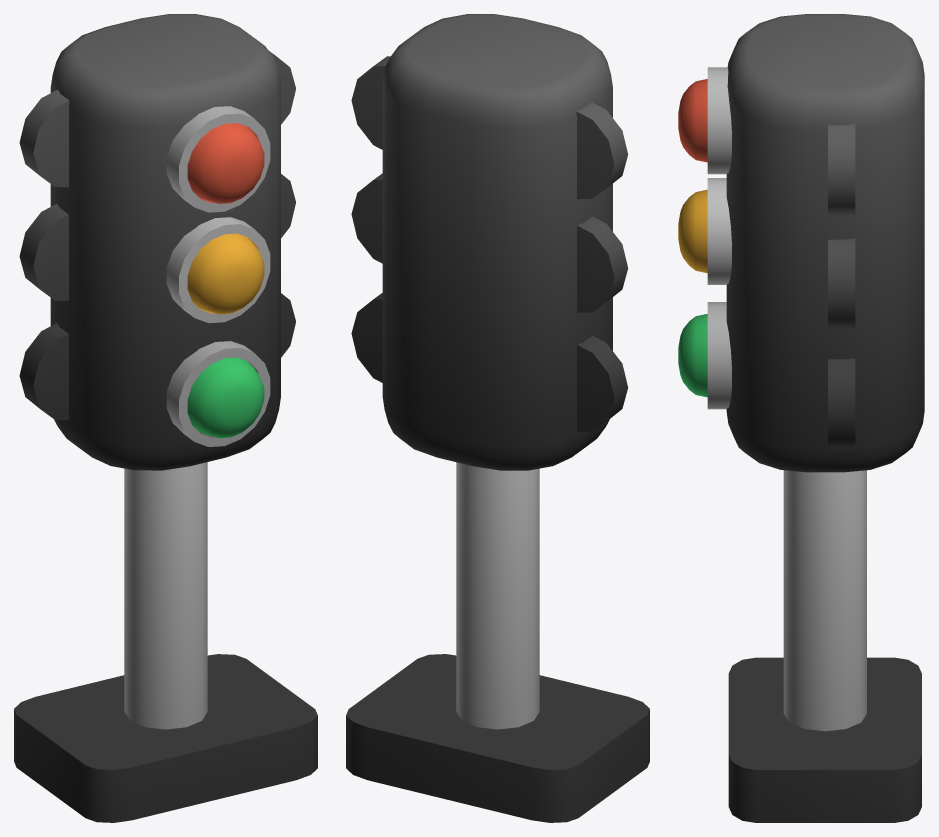
File: Traffic_Lamp.fbx
The picture shows the model from 3 angles, left to right: view 1: azimuth 30°, elevation 25°; view 2: azimuth 150°, elevation 25°; view 3: azimuth 270°, elevation 25°; orthographic projection.
Visible parts, largest first — view 1: Traffic_Lamp; view 2: Traffic_Lamp; view 3: Traffic_Lamp.
Part boxes in pixels (x1=…): Traffic_Lamp: x1=14, y1=14, x2=317, y2=822; Traffic_Lamp: x1=346, y1=14, x2=649, y2=822; Traffic_Lamp: x1=678, y1=14, x2=924, y2=822.
Bounding box in the file's own units: 0.5763 × 1.49 × 0.4662.
